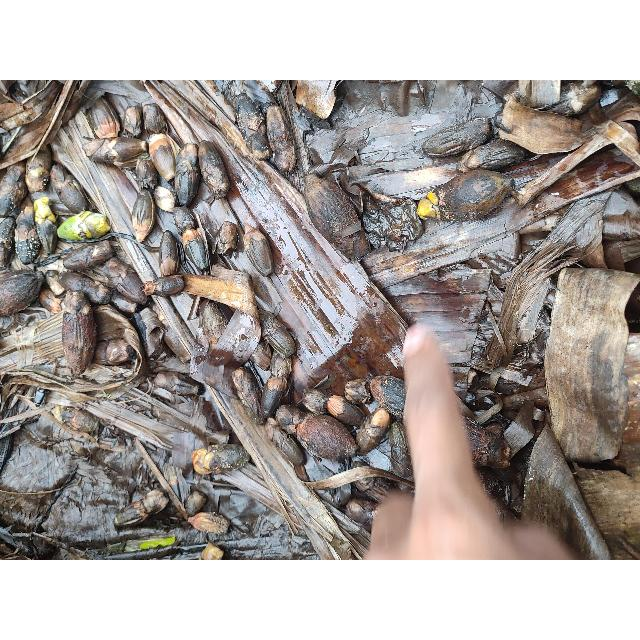damaged: (492, 195, 616, 338), (543, 272, 639, 450), (519, 422, 619, 556), (392, 202, 526, 282), (80, 396, 198, 450), (494, 94, 590, 154), (216, 462, 296, 532), (296, 483, 360, 555), (428, 170, 512, 223), (149, 80, 229, 134), (388, 280, 478, 324), (1, 310, 66, 370), (360, 182, 414, 254), (306, 173, 356, 249), (358, 162, 458, 200), (176, 271, 254, 313), (422, 116, 492, 158), (283, 80, 313, 178), (2, 82, 60, 132), (202, 532, 302, 560), (298, 413, 354, 461), (62, 294, 96, 372), (457, 138, 529, 174), (592, 118, 640, 172), (344, 80, 408, 120), (358, 112, 432, 146), (537, 81, 605, 117), (502, 398, 542, 457), (0, 466, 76, 496), (466, 417, 510, 468), (600, 186, 640, 242), (0, 392, 28, 472), (306, 124, 352, 172), (316, 466, 400, 492), (114, 488, 168, 528), (0, 270, 46, 316), (478, 466, 518, 518), (467, 365, 505, 419), (266, 105, 296, 173), (82, 136, 148, 166), (50, 164, 88, 216), (274, 168, 310, 220), (199, 140, 229, 202), (355, 405, 391, 455), (60, 242, 116, 274), (174, 142, 200, 208), (14, 205, 42, 265), (192, 444, 248, 474), (233, 368, 263, 422), (242, 221, 272, 275), (598, 86, 640, 124), (259, 310, 295, 354), (58, 211, 110, 241), (51, 404, 99, 436), (0, 163, 28, 217), (136, 306, 166, 356), (371, 375, 405, 419), (1, 404, 54, 432), (148, 132, 176, 184), (500, 386, 550, 414), (388, 421, 412, 479), (86, 98, 120, 138), (182, 226, 210, 274), (234, 92, 266, 134), (220, 119, 252, 160), (59, 85, 90, 127), (132, 189, 156, 243), (326, 395, 366, 427), (261, 374, 289, 418), (574, 232, 608, 268), (602, 235, 640, 267), (202, 300, 228, 346), (26, 148, 52, 194), (94, 338, 136, 366), (152, 372, 200, 396), (277, 430, 307, 466), (158, 230, 180, 278), (142, 274, 186, 298), (298, 102, 330, 132), (76, 278, 112, 304), (188, 512, 230, 534), (36, 214, 58, 256), (7, 80, 45, 104), (238, 82, 276, 106), (528, 80, 560, 108), (58, 272, 94, 296), (1, 216, 18, 266), (244, 131, 272, 161), (214, 220, 236, 258), (142, 104, 168, 136), (130, 312, 148, 356), (298, 388, 328, 414), (0, 102, 30, 128), (110, 290, 142, 314), (269, 348, 291, 382), (121, 106, 143, 140), (136, 158, 158, 192), (344, 378, 372, 404), (276, 404, 304, 430), (496, 368, 532, 388), (250, 336, 272, 368), (264, 418, 286, 450), (361, 481, 392, 503), (0, 430, 14, 478), (62, 290, 88, 314), (185, 489, 208, 516), (44, 270, 66, 298), (34, 198, 56, 226), (152, 186, 175, 212), (31, 534, 55, 558), (195, 321, 211, 354), (199, 540, 225, 560), (197, 180, 215, 207), (492, 110, 512, 134), (50, 164, 66, 192), (250, 81, 284, 93), (68, 439, 90, 457), (0, 129, 14, 155), (293, 462, 311, 482), (624, 176, 640, 198)
